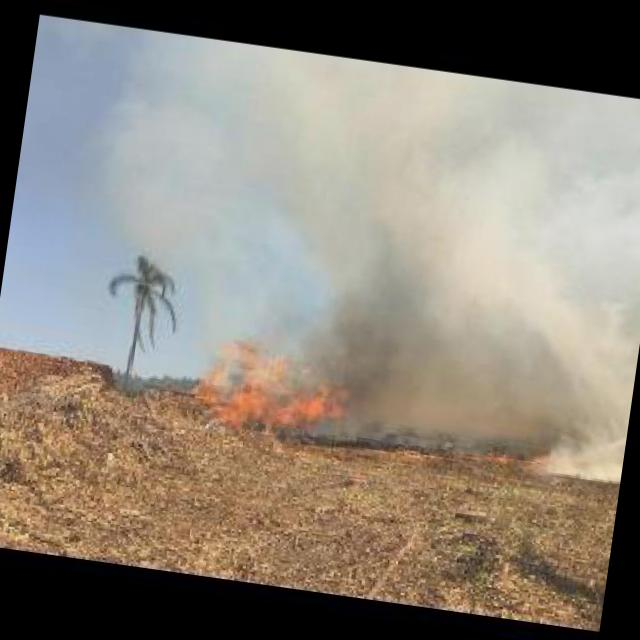fire: (191, 338, 352, 443)
smoke: (304, 221, 436, 410)
